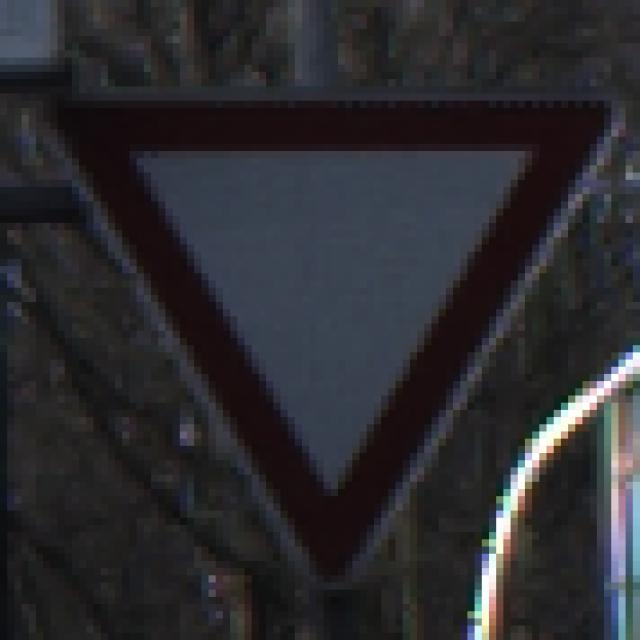Give Way: (59, 59, 591, 591)
